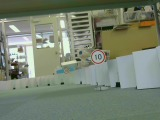speed_10: (89, 49, 107, 65)
